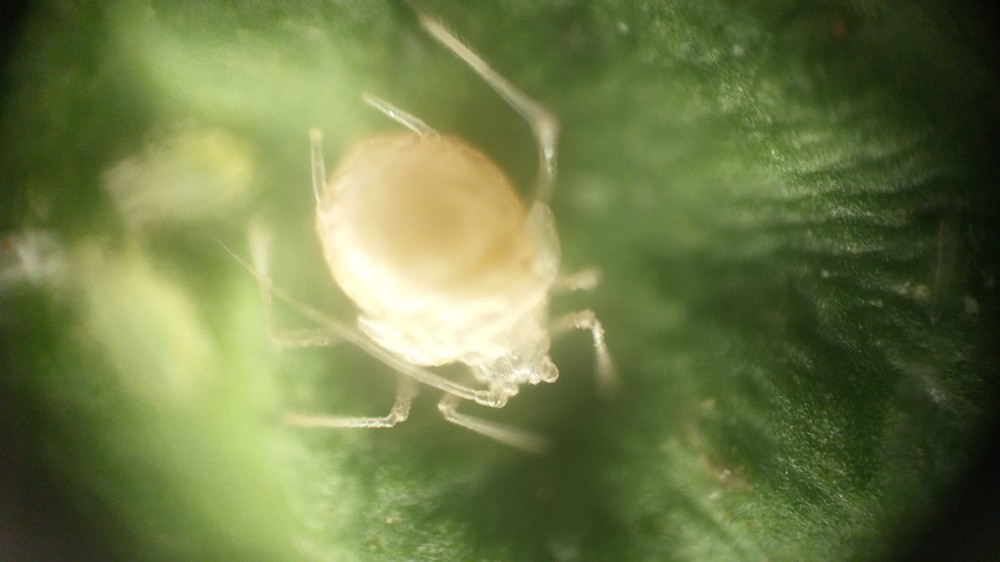Pulgon: (209, 7, 644, 461)
